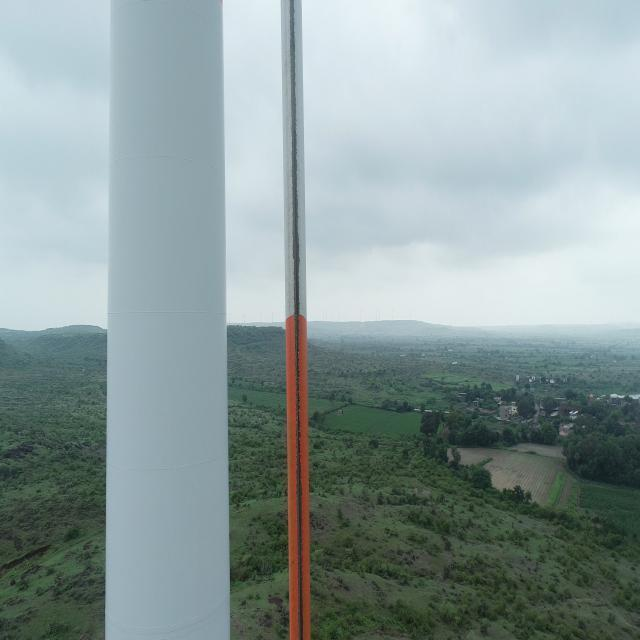Erosion: (279, 0, 312, 640)
